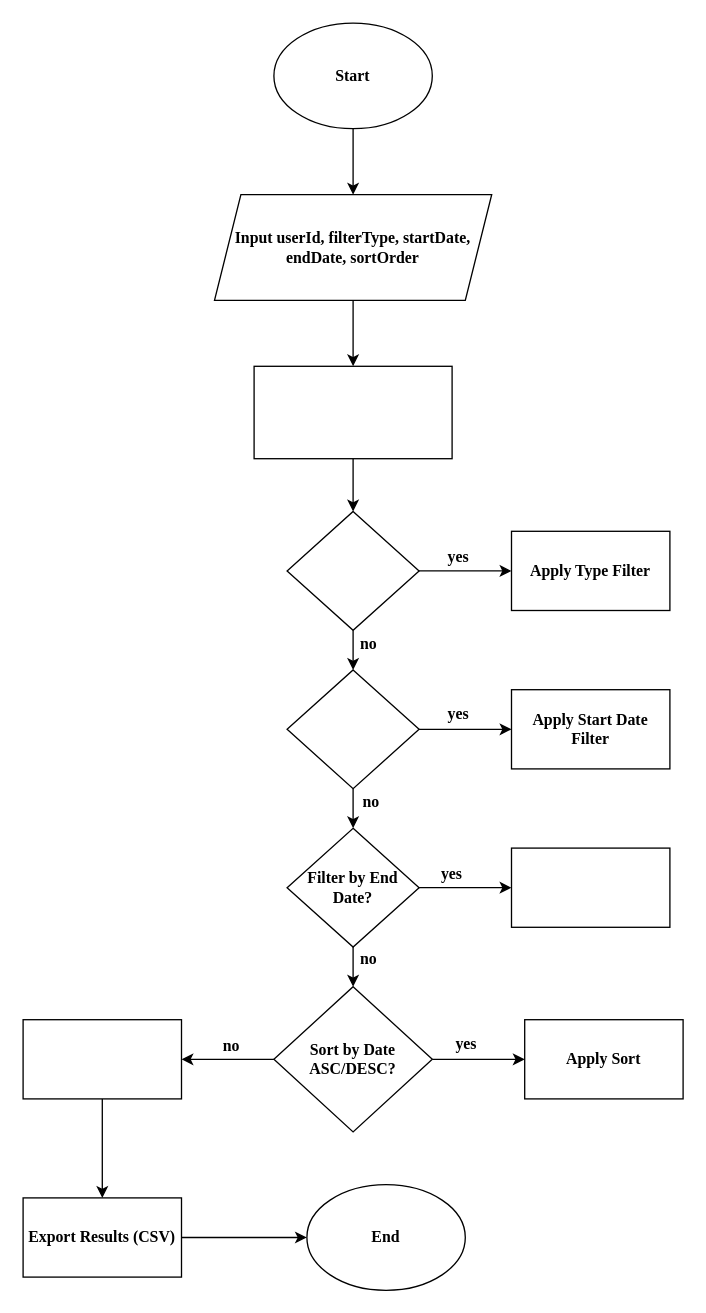
Image size: 706x1313. Some labels were removed from this diagram. The centre of each missing label's shape, as x and y in pixels:
"Apply End Date Filter" belongs at (590,887).
"Display Results" belongs at (102,1058).
"Fetch All Transactions" belongs at (352,412).
"Filter by Start Date?" belongs at (352,729).
"Filter by Type?" belongs at (352,570).
